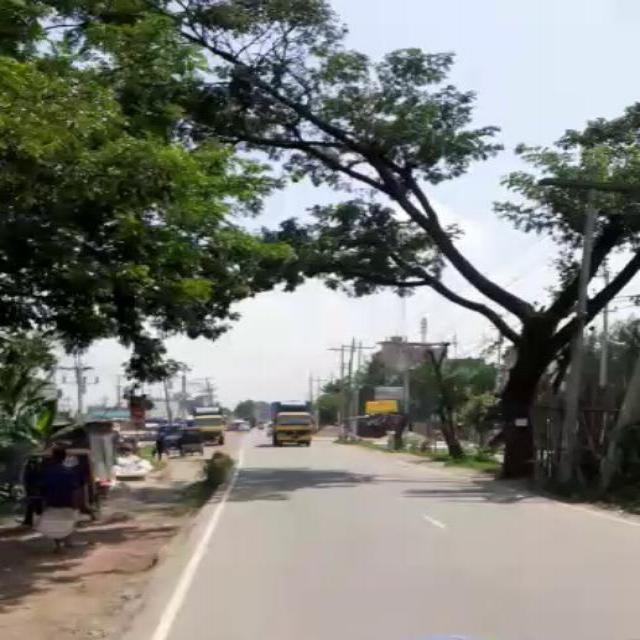vehicle: (269, 399, 310, 443), (194, 406, 226, 441)
